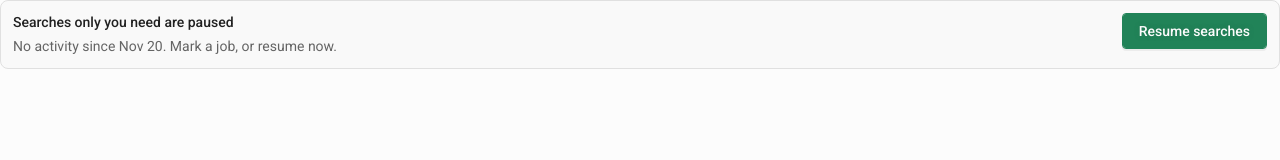
Test: PausedNotice › shows the failure copy when resume fails
Click the button "Resume searches": (1194, 31) [1122, 13, 1267, 49]
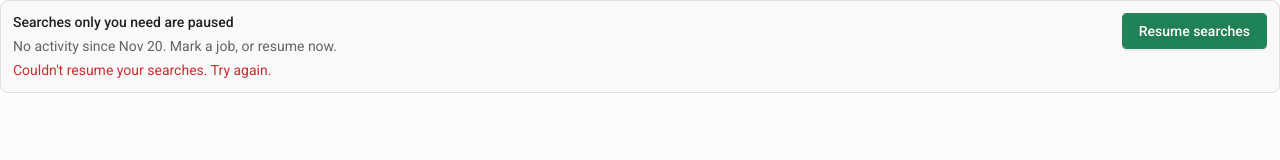
Now the text "Couldn't resume your searches. Try again." is shown, box [13, 62, 271, 78]
